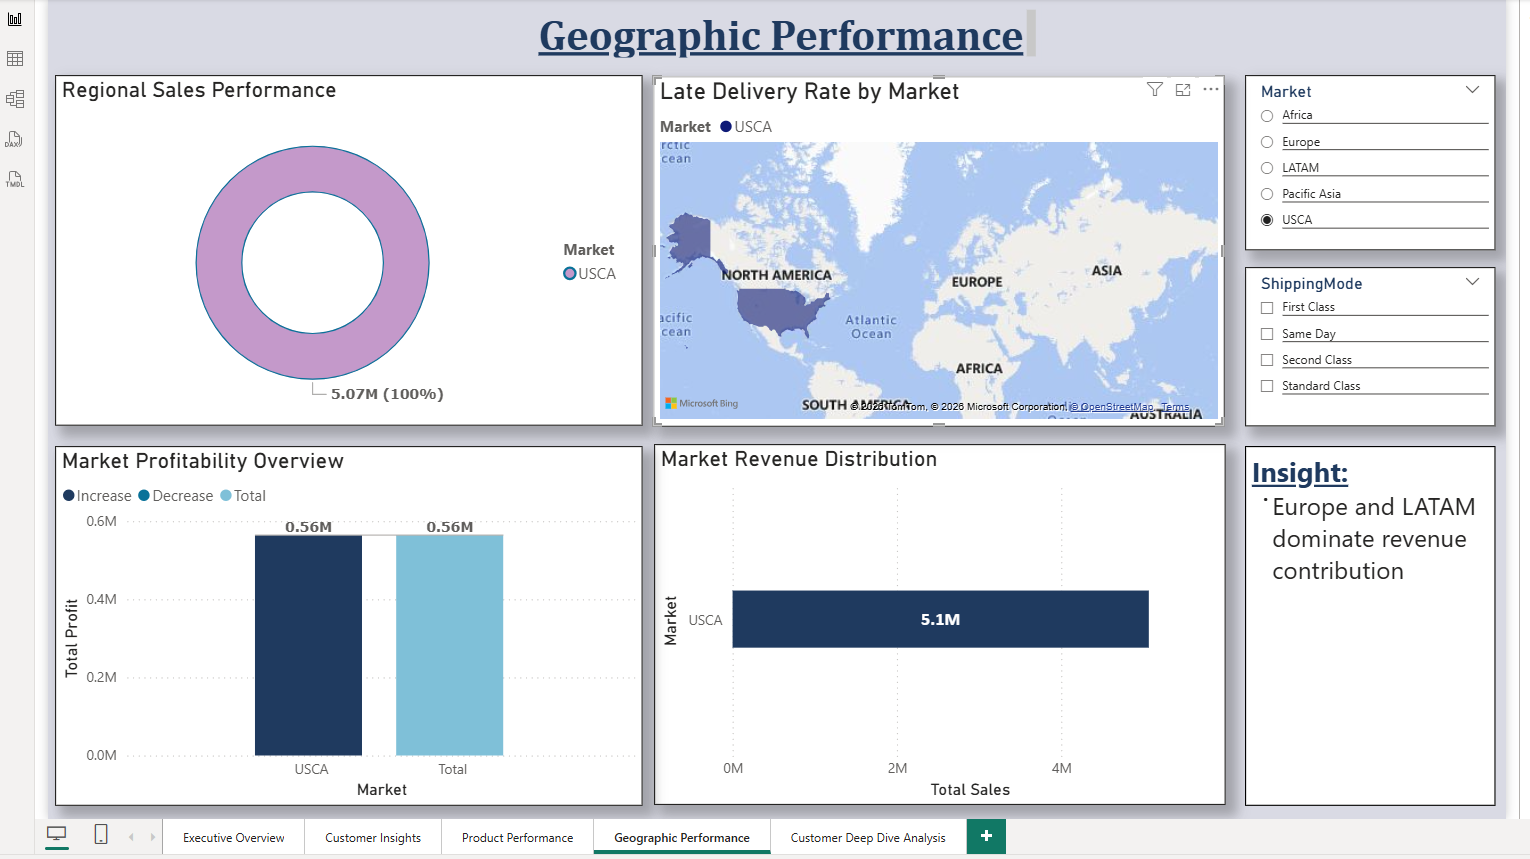

Layout of this report page (visuals, bound fields, positions):
{"tool":"powerbi","page":{"name":"Geographic Performance","canvas":[1280,720],"ordinal":3},"visuals":[{"type":"donutChart","title":"Regional Sales Performance","fields":{"Category":["DimMarket.Market"],"Y":["Measures (1).Total Sales"]},"box":[6,66.4,516.4,307.6],"z":0},{"type":"filledMap","title":"Late Delivery Rate by Market","fields":{"Category":["DimMarket.OrderCountry"],"Series":["DimMarket.Market"]},"box":[530.8,67.6,501.9,307.6],"z":1000},{"type":"barChart","title":"Market Revenue Distribution","fields":{"Category":["FactOrders.Market"],"Y":["Measures (1).Total Sales"]},"box":[532,390.9,501.9,317.3],"z":2000},{"type":"waterfallChart","title":"Market Profitability Overview","fields":{"Category":["DimMarket.Market"],"Y":["Measures (1).Total Profit"]},"box":[6,392.1,516.4,316.1],"z":3000},{"type":"slicer","fields":{"Values":["DimMarket.Market"]},"box":[1050.8,66.4,219.6,154.4],"z":4000},{"type":"textbox","box":[422.7,4.7,449.8,51.8],"z":5000},{"type":"slicer","fields":{"Values":["FactOrders.ShippingMode"]},"box":[1050.8,235.3,219.6,139.9],"z":6000},{"type":"textbox","box":[1050.8,392.1,219.6,316.1],"z":7000}]}

Visuals, with their boxes in screenshot pixels (x1, y1, x2, y2):
"Regional Sales Performance" donutChart: box(51, 72, 638, 421)
"Late Delivery Rate by Market" filledMap: box(647, 73, 1218, 423)
"Market Revenue Distribution" barChart: box(649, 440, 1219, 801)
"Market Profitability Overview" waterfallChart: box(51, 442, 638, 801)
slicer - DimMarket.Market: box(1239, 72, 1488, 247)
textbox: box(524, 1, 1036, 60)
slicer - FactOrders.ShippingMode: box(1239, 264, 1488, 423)
textbox: box(1239, 442, 1488, 801)
